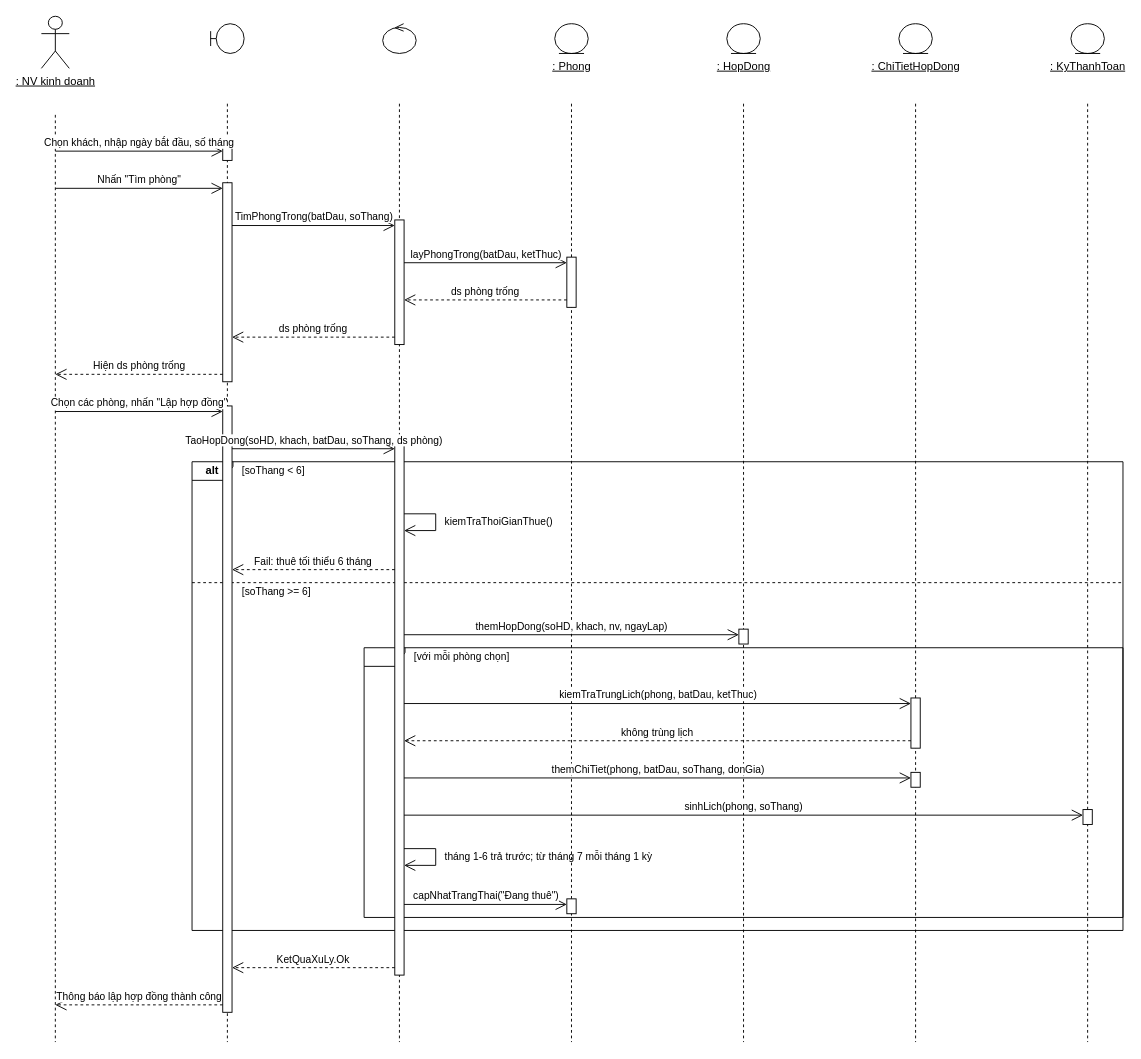
Some shapes in this 1141 by 1059 pixel diagram are drawn without their labels. The box of each missing label's shape, as (x1, y1, x2, y2) in pixels:
: FrmHopDong: (210, 23, 244, 53)
: HopDongService: (382, 23, 416, 53)
loop: (363, 647, 1123, 917)
